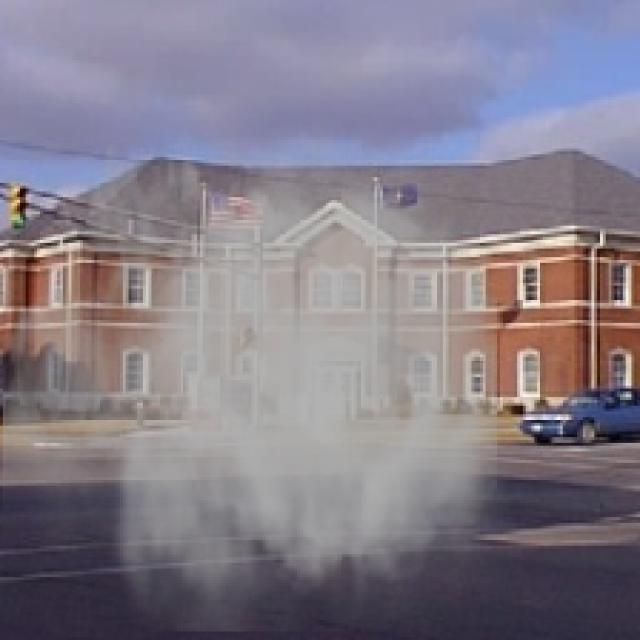Smoke: (2, 91, 528, 632)
